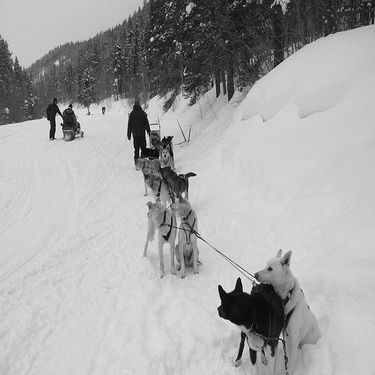dog: (253, 244, 320, 359), (210, 277, 284, 364), (136, 202, 182, 279), (165, 198, 203, 274), (157, 166, 200, 202), (132, 174, 170, 202), (133, 158, 162, 183), (130, 144, 163, 162), (156, 133, 178, 156), (158, 155, 174, 173)
